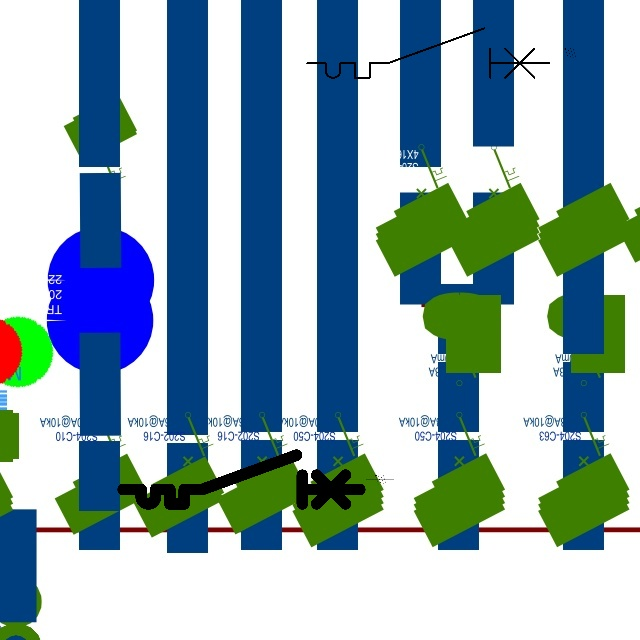interruptor_termomagnetico: (301, 22, 555, 84), (117, 449, 366, 510)
